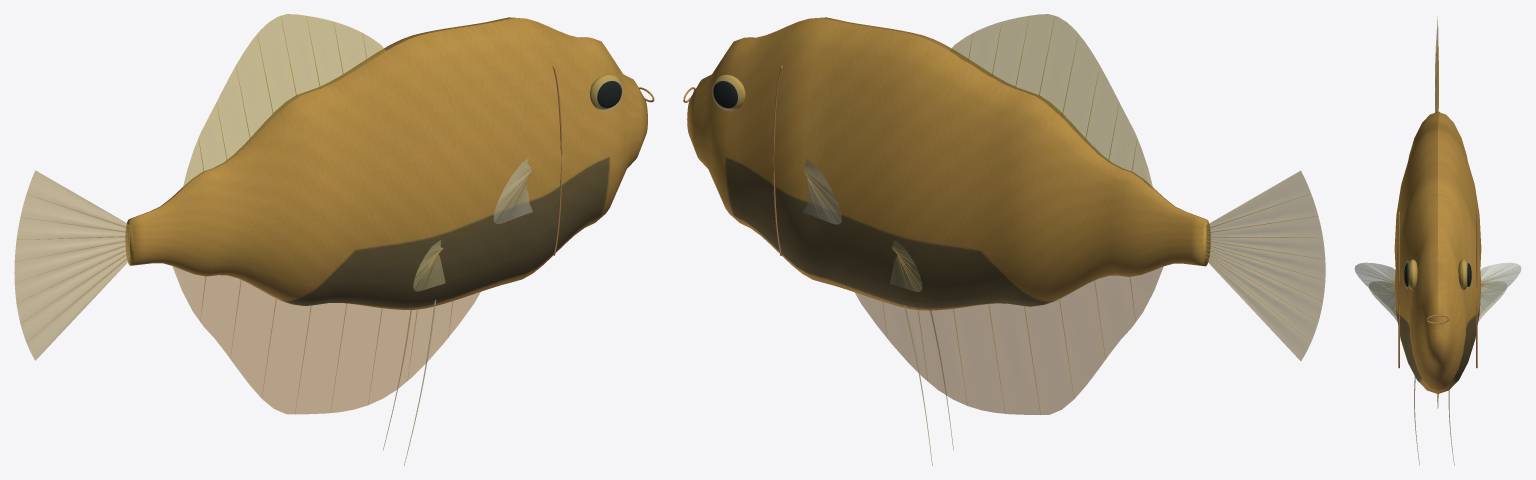
File: honey-mobile.glb
3 views of the same model, side by side, from view 1: azimuth 30°, elevation 25°; view 2: azimuth 150°, elevation 25°; view 3: azimuth 270°, elevation 25° (orthographic). The views are drawn at different scales.
Parts seen in each view (by area): view 1: skin, anal, tail, dorsal, dorsal-ray, pelvic-left, pectoral-left; view 2: skin, anal, tail, dorsal, dorsal-ray, pelvic-left, pectoral-left; view 3: skin, pectoral-left, pelvic-left, operculum, eye-iris--1, dorsal-ray, eye-pupil--1, tail.
Boxes of the visible parts, bbox=[...] form: skin: bbox=[125, 17, 647, 309]; anal: bbox=[172, 266, 480, 414]; tail: bbox=[14, 170, 129, 360]; dorsal: bbox=[182, 14, 385, 188]; dorsal-ray: bbox=[16, 16, 531, 411]; pelvic-left: bbox=[383, 240, 445, 465]; pectoral-left: bbox=[493, 158, 532, 223]; skin: bbox=[687, 17, 1210, 310]; anal: bbox=[855, 266, 1163, 414]; tail: bbox=[1206, 171, 1325, 360]; dorsal: bbox=[950, 14, 1153, 189]; dorsal-ray: bbox=[804, 16, 1324, 413]; pelvic-left: bbox=[890, 240, 953, 465]; pectoral-left: bbox=[803, 158, 841, 224]; skin: bbox=[1394, 112, 1481, 393]; pectoral-left: bbox=[1354, 262, 1521, 316]; pelvic-left: bbox=[1369, 281, 1506, 465]; operculum: bbox=[1398, 211, 1477, 368]; eye-iris--1: bbox=[1408, 259, 1467, 290]; dorsal-ray: bbox=[1360, 75, 1514, 302]; eye-pupil--1: bbox=[1404, 263, 1471, 286]; tail: bbox=[1435, 16, 1438, 112].
Bounding box in the file's own units: 0.5852 × 0.4135 × 0.1621.
Materials: 11 (1 with a texture image).
